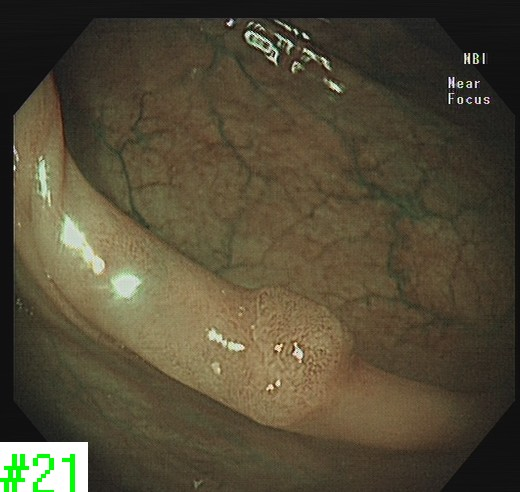adenoma: (227, 281, 357, 430)
